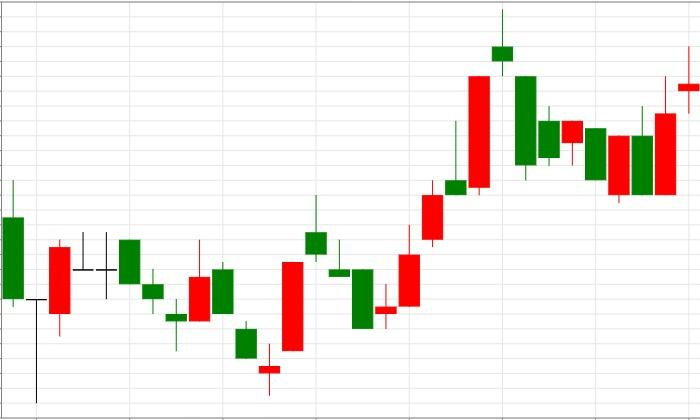bullish_engulfing_rise: (492, 9, 677, 203)
morning_star_rise: (188, 240, 304, 396)
three_black_crows_fall: (25, 232, 188, 403)
three_white_soldiers_rise: (304, 180, 444, 330)
